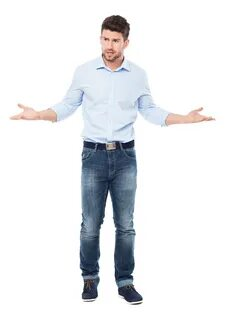awake: (41, 14, 182, 305)
